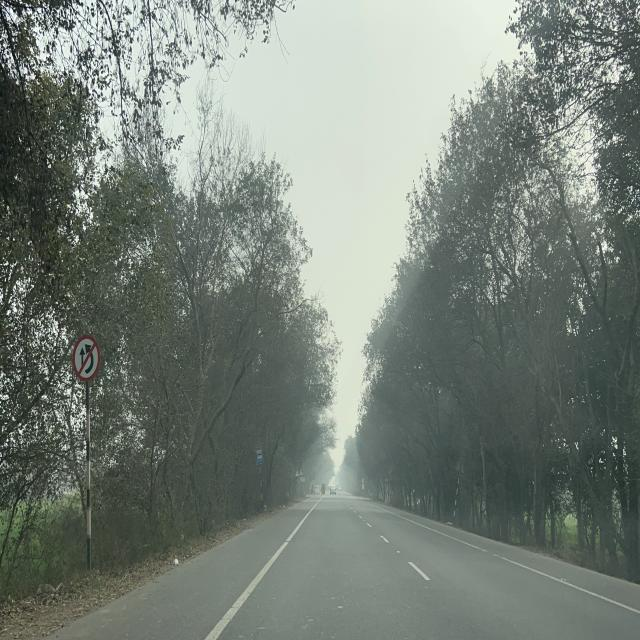OVERTAKING_PROHIBITED: (72, 333, 101, 381)
